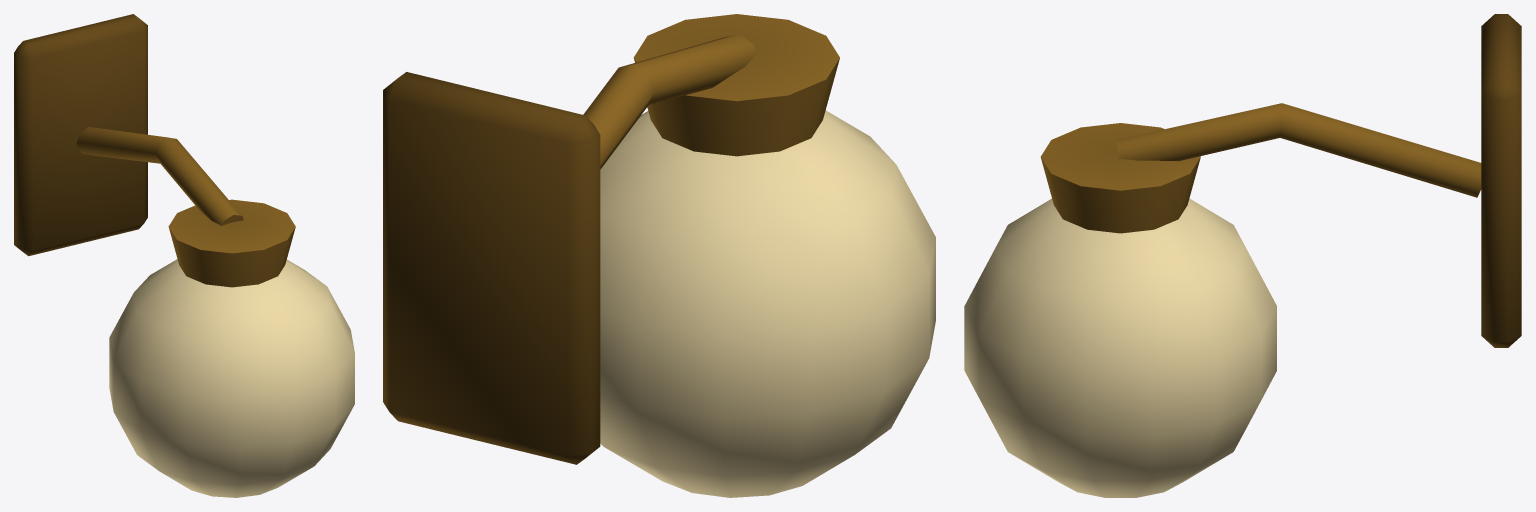
Rendered from farol_estacion.glb.
3 renders of one model, left to right at view 1: azimuth 30°, elevation 25°; view 2: azimuth 150°, elevation 25°; view 3: azimuth 270°, elevation 25°, orthographic. The views are drawn at different scales.
Visible parts, largest first — view 1: globo, brazo; view 2: globo, brazo; view 3: globo, brazo.
Part boxes in pixels (<box>): globo: <box>109,259,354,497</box>; brazo: <box>14,14,295,287</box>; globo: <box>600,110,935,497</box>; brazo: <box>383,14,839,464</box>; globo: <box>964,198,1276,497</box>; brazo: <box>1040,14,1521,347</box>.
Bounding box in the file's own units: 0.2281 × 0.36 × 0.417.
